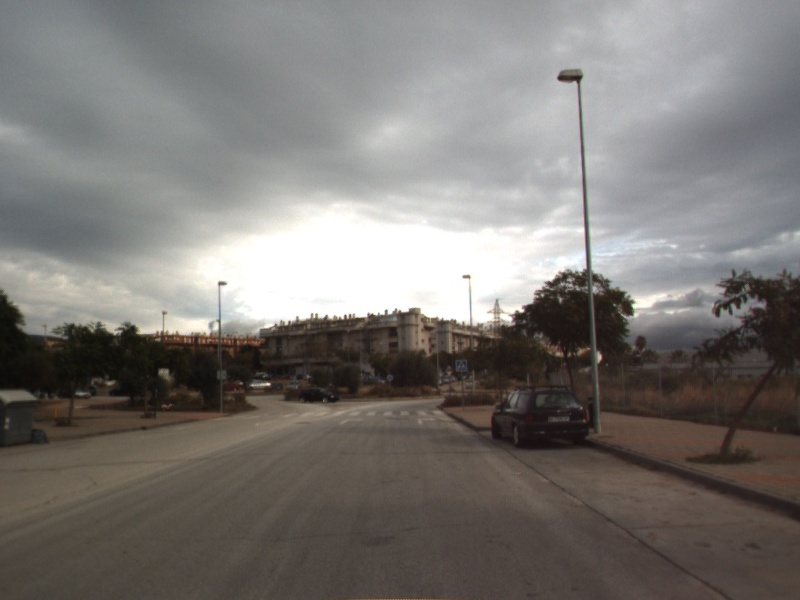RIGHT: (337, 415, 366, 426), (415, 415, 438, 426)
